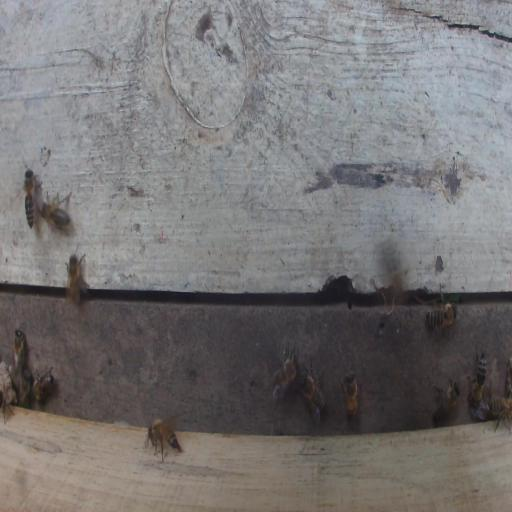bee: (425, 284, 459, 343), (145, 415, 184, 461), (298, 370, 326, 426), (272, 345, 298, 402), (22, 164, 44, 229), (41, 189, 72, 235), (65, 243, 85, 306), (466, 349, 487, 409), (433, 377, 460, 423), (32, 365, 55, 403), (489, 396, 512, 434), (342, 368, 358, 421), (12, 328, 26, 371), (19, 369, 32, 407)
